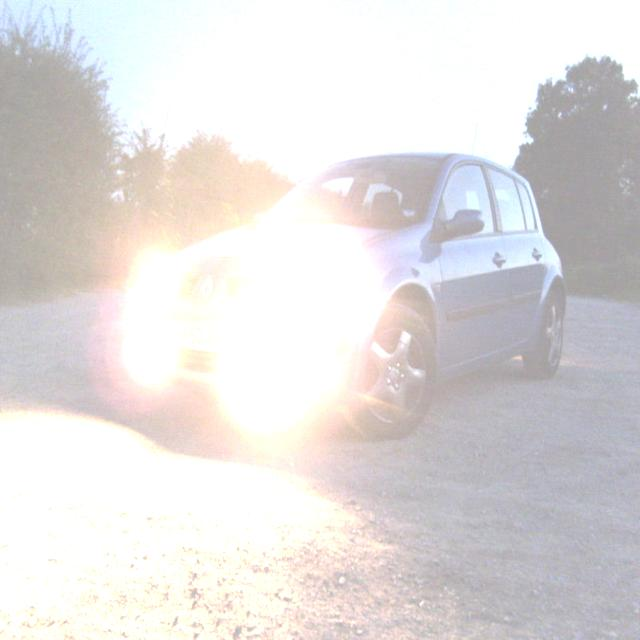Car: (121, 121, 566, 452)
